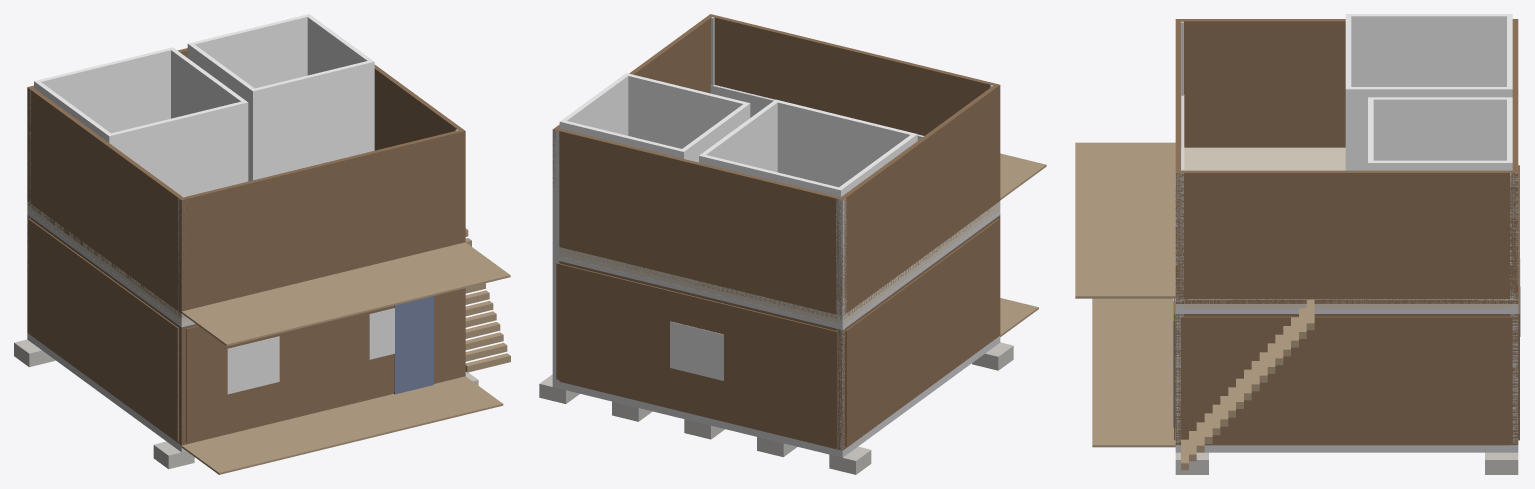
Rendered from Duplex-20-Base-DarkBrown-LOD2.glb.
3 views of the same model, side by side, from view 1: azimuth 30°, elevation 25°; view 2: azimuth 150°, elevation 25°; view 3: azimuth 270°, elevation 25° (orthographic). The views are drawn at different scales.
Parts seen in each view (by area): view 1: ExteriorShellUpper, ExteriorPanelsStandard, StudyUpper, BedroomUpper, BalconyUpper, BalconyGround, WindowsStandard, EntryDoor, StaircaseExternal, ExteriorShell, FoundationBlocks, FloorUpper (+2 smaller); view 2: ExteriorShellUpper, ExteriorPanelsStandard, BedroomUpper, StudyUpper, FloorUpper, VerticalStructure, FoundationBlocks, BaseFrame, ExteriorShell, WindowsStandard, TopFrame, BalconyUpper (+2 smaller); view 3: ExteriorShellUpper, ExteriorPanelsStandard, BalconyUpper, BedroomUpper, BalconyGround, StudyUpper, FloorUpper, StaircaseExternal, ExteriorShell, VerticalStructure, BaseFrame, TopFrame (+1 smaller).
Part boxes in pixels (x1,y1,x2,y2): ExteriorShellUpper: [27, 48, 465, 317]; ExteriorPanelsStandard: [28, 218, 461, 442]; StudyUpper: [187, 14, 374, 181]; BedroomUpper: [34, 47, 248, 196]; BalconyUpper: [181, 242, 510, 346]; BalconyGround: [181, 376, 503, 474]; WindowsStandard: [227, 308, 394, 394]; EntryDoor: [394, 296, 433, 394]; StaircaseExternal: [465, 228, 510, 372]; ExteriorShell: [27, 215, 465, 445]; FoundationBlocks: [14, 339, 478, 469]; FloorUpper: [27, 201, 190, 322]; ExteriorShellUpper: [552, 14, 1000, 319]; ExteriorPanelsStandard: [556, 219, 999, 447]; BedroomUpper: [699, 99, 917, 197]; StudyUpper: [559, 73, 750, 162]; FloorUpper: [559, 201, 1000, 325]; VerticalStructure: [552, 17, 998, 450]; FoundationBlocks: [539, 342, 1013, 474]; BaseFrame: [552, 336, 1000, 457]; ExteriorShell: [559, 215, 1000, 450]; WindowsStandard: [670, 321, 723, 380]; TopFrame: [559, 210, 1000, 329]; BalconyUpper: [1000, 153, 1046, 199]; ExteriorShellUpper: [1175, 19, 1518, 303]; ExteriorPanelsStandard: [1174, 165, 1519, 443]; BalconyUpper: [1075, 142, 1175, 298]; BedroomUpper: [1345, 14, 1512, 170]; BalconyGround: [1092, 298, 1175, 447]; StudyUpper: [1368, 97, 1512, 170]; FloorUpper: [1175, 147, 1518, 308]; StaircaseExternal: [1181, 299, 1314, 470]; ExteriorShell: [1175, 314, 1518, 445]; VerticalStructure: [1175, 21, 1518, 445]; BaseFrame: [1175, 445, 1518, 452]; TopFrame: [1175, 309, 1518, 313].
Size of the model in its own units: 7.94 by 6 by 8.
